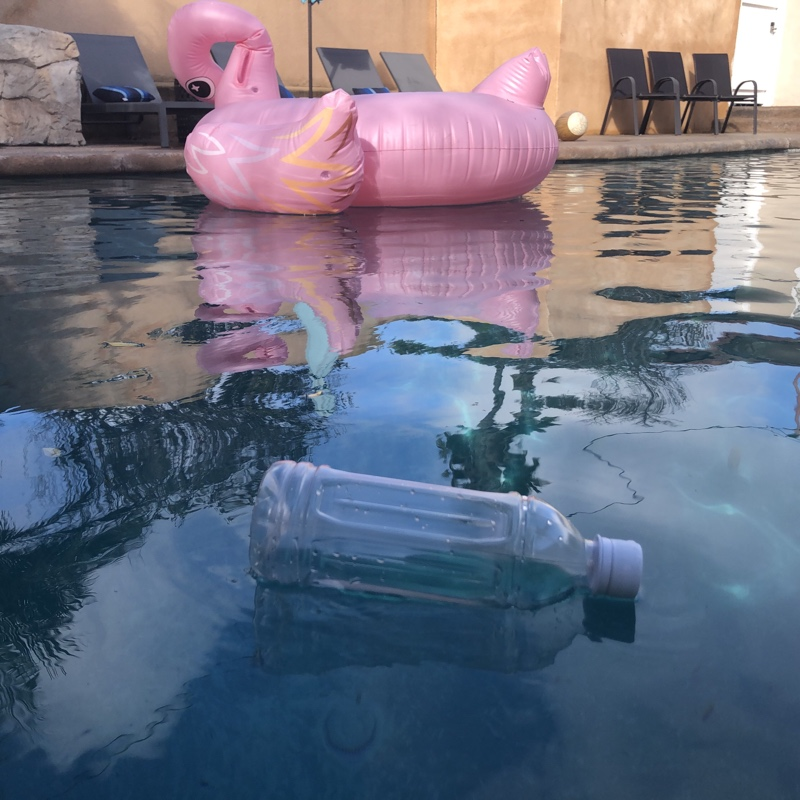Plastic Bottle: (244, 454, 650, 621)
